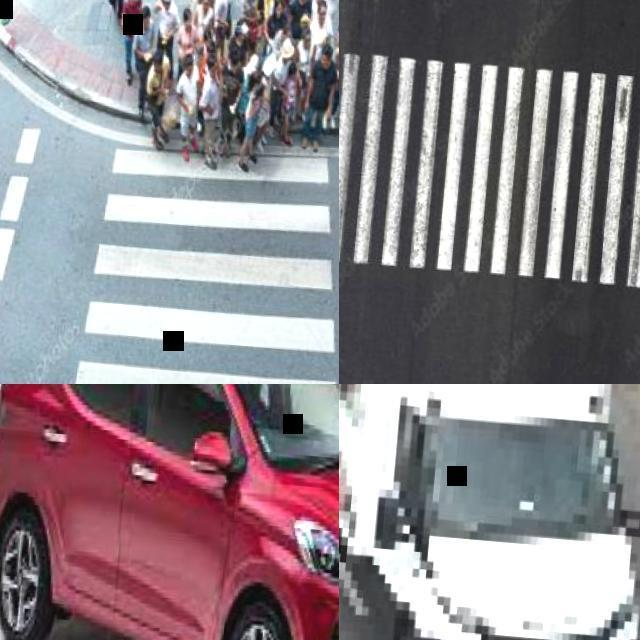car: (350, 382, 639, 639)
